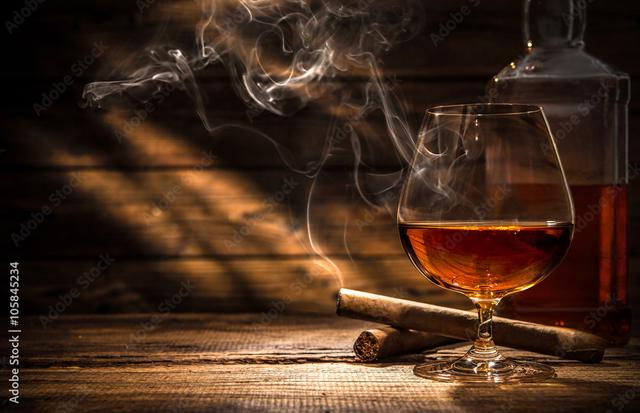Cigar: (334, 286, 607, 364), (352, 324, 466, 362)
